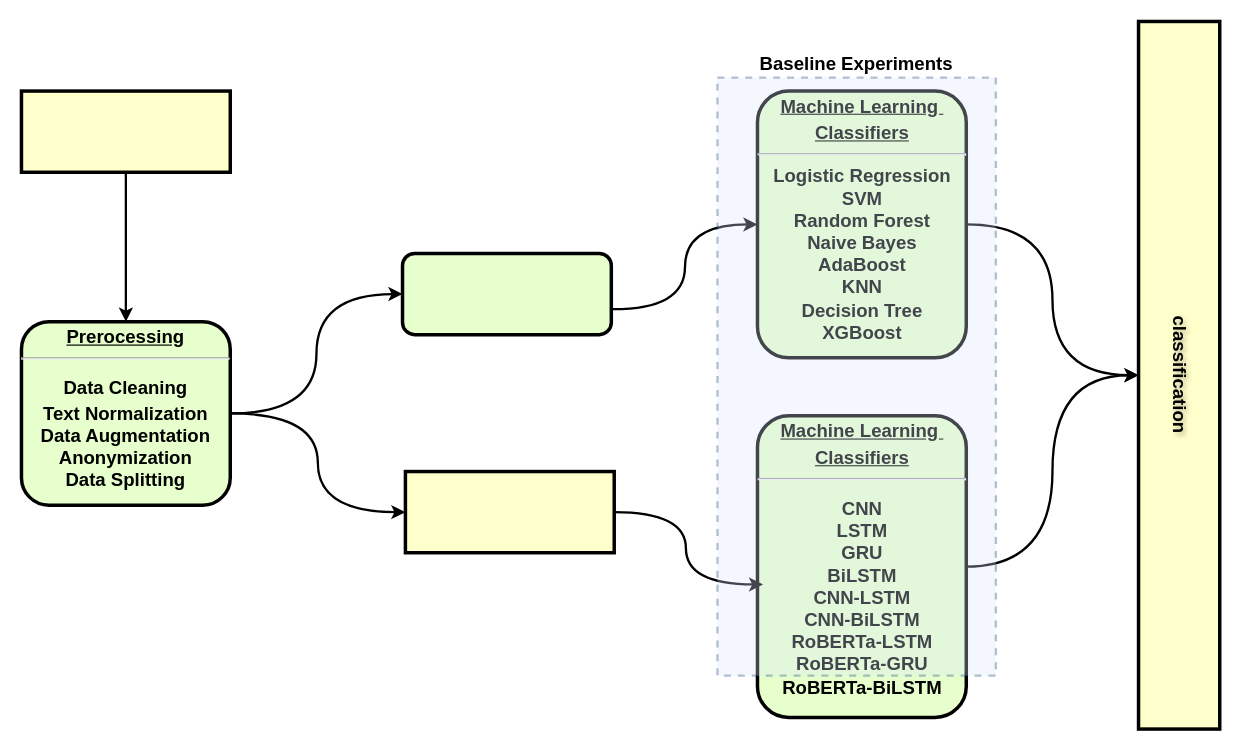
The diagram is 1241 pixels wide and 751 high, and some of its shapes have lost their labels. The box of each missing label's shape, as (x1, y1, x2, y2) in pixels:
Features Extraction IF-IDF: (400, 251, 612, 336)
Social Media Mental Health Dataset: (19, 89, 231, 173)
Word Embedding: (403, 469, 615, 554)
